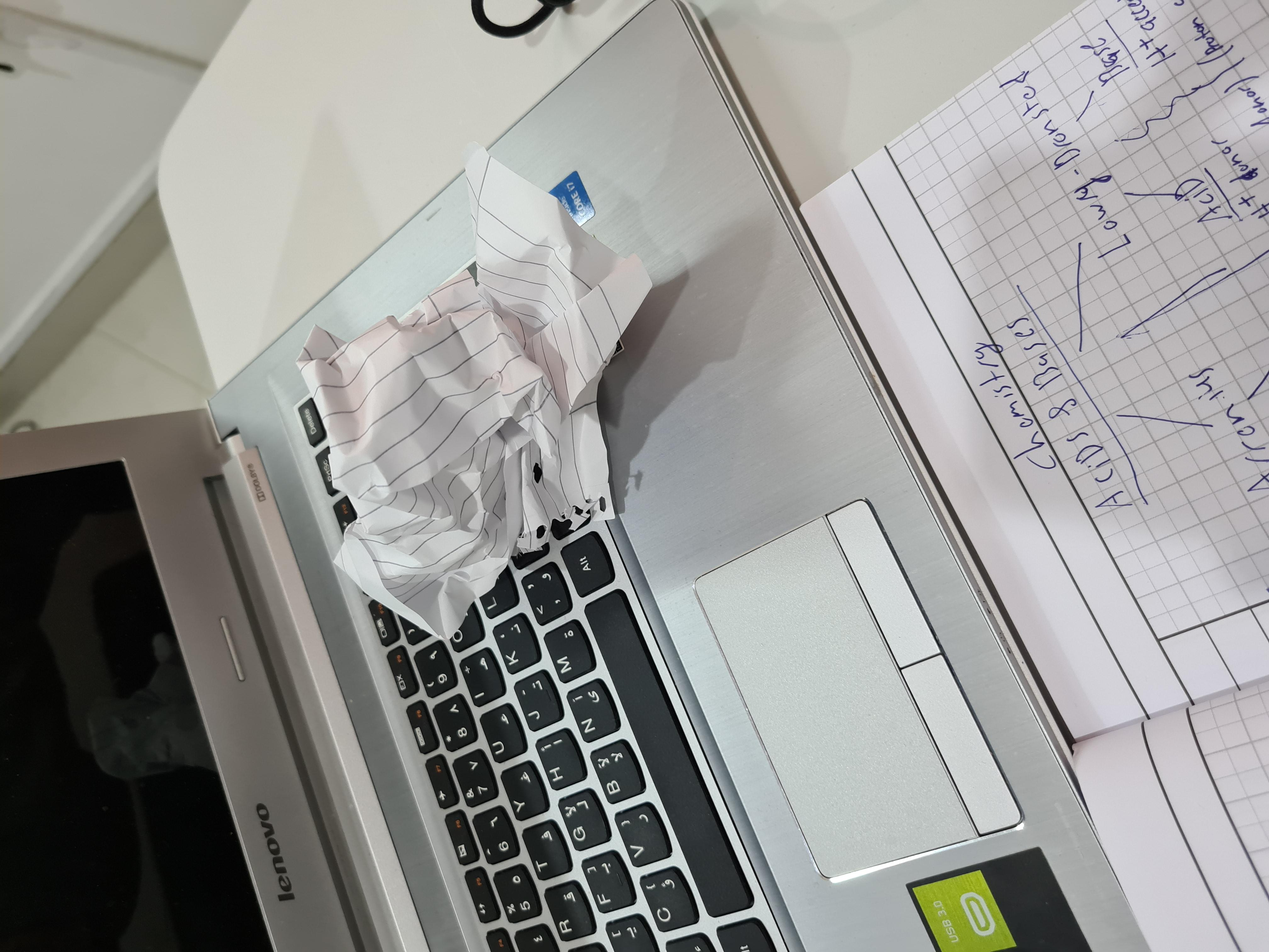paper: (442, 225, 1045, 473)
